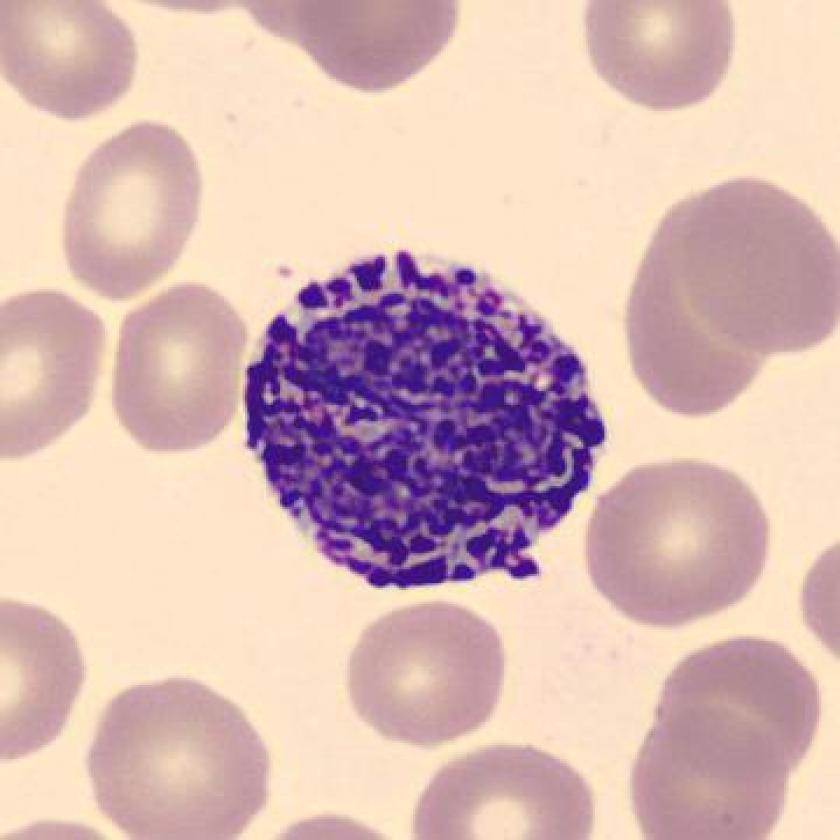basophil: (227, 244, 610, 598)
